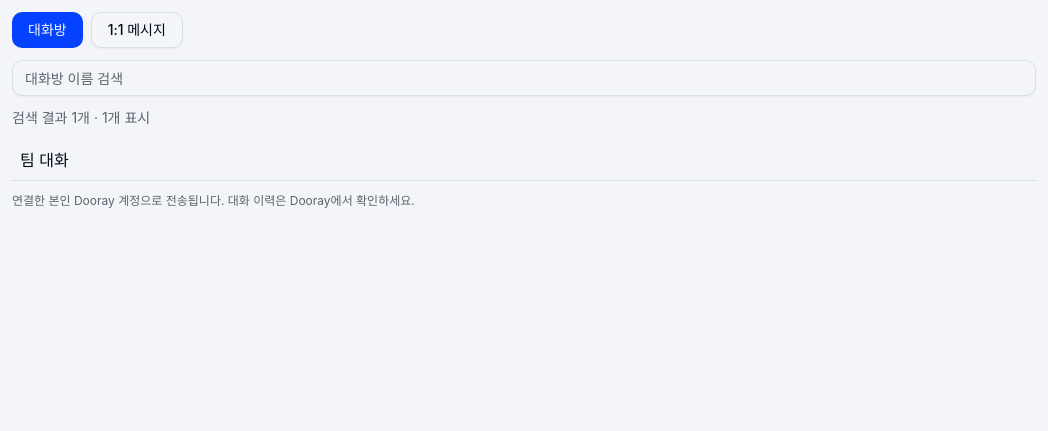
Scenario: retains the draft and reports a failed send without retrying
Click the button "팀 대화": (44, 160) x1=12 y1=140 x2=1036 y2=181
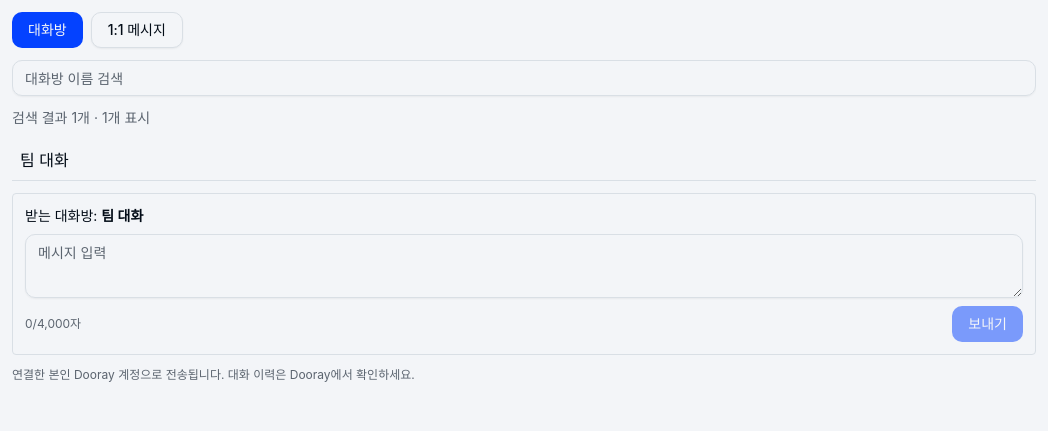
In the text box labelled "메시지": (524, 266) x1=25 y1=234 x2=1023 y2=298, type "보낼 내용"
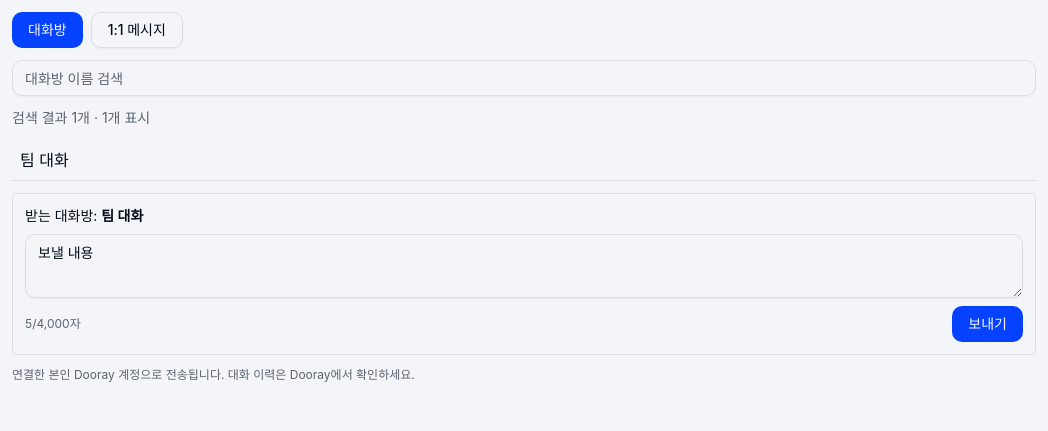
Click the button "보내기": (988, 324) x1=952 y1=306 x2=1023 y2=342
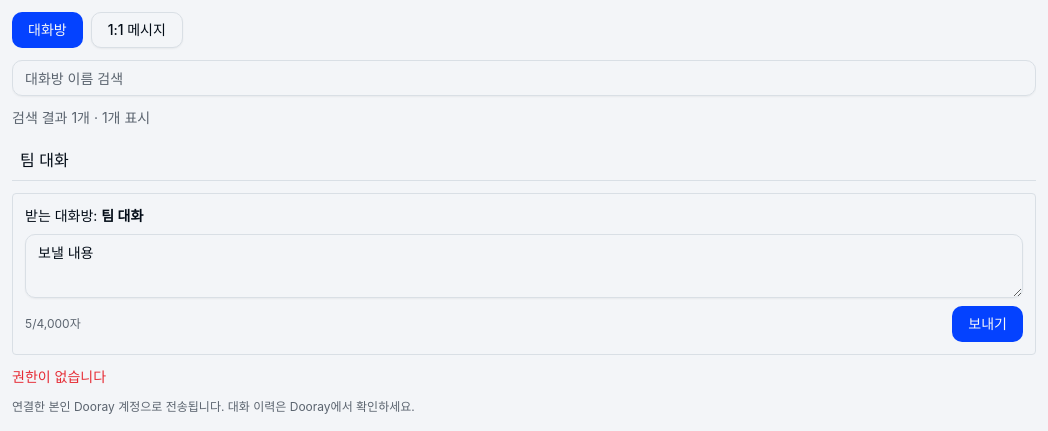
Result: the message reads "권한이 없습니다" at x1=12 y1=368 x2=106 y2=385
